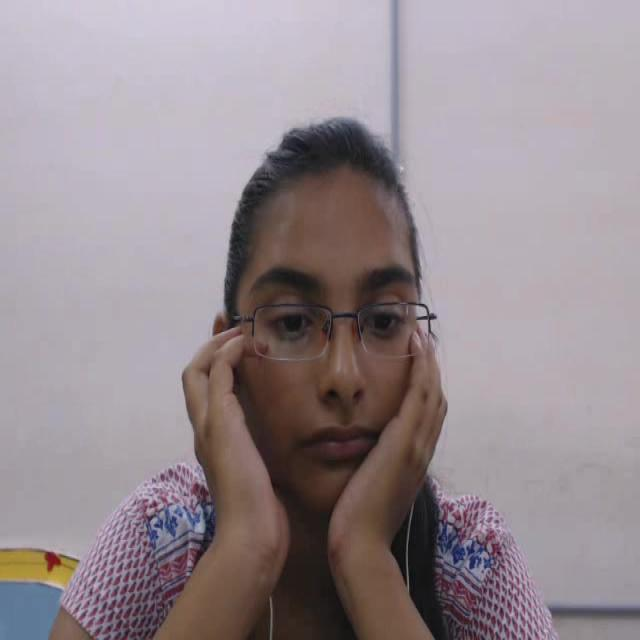Bored: (178, 99, 490, 544)
